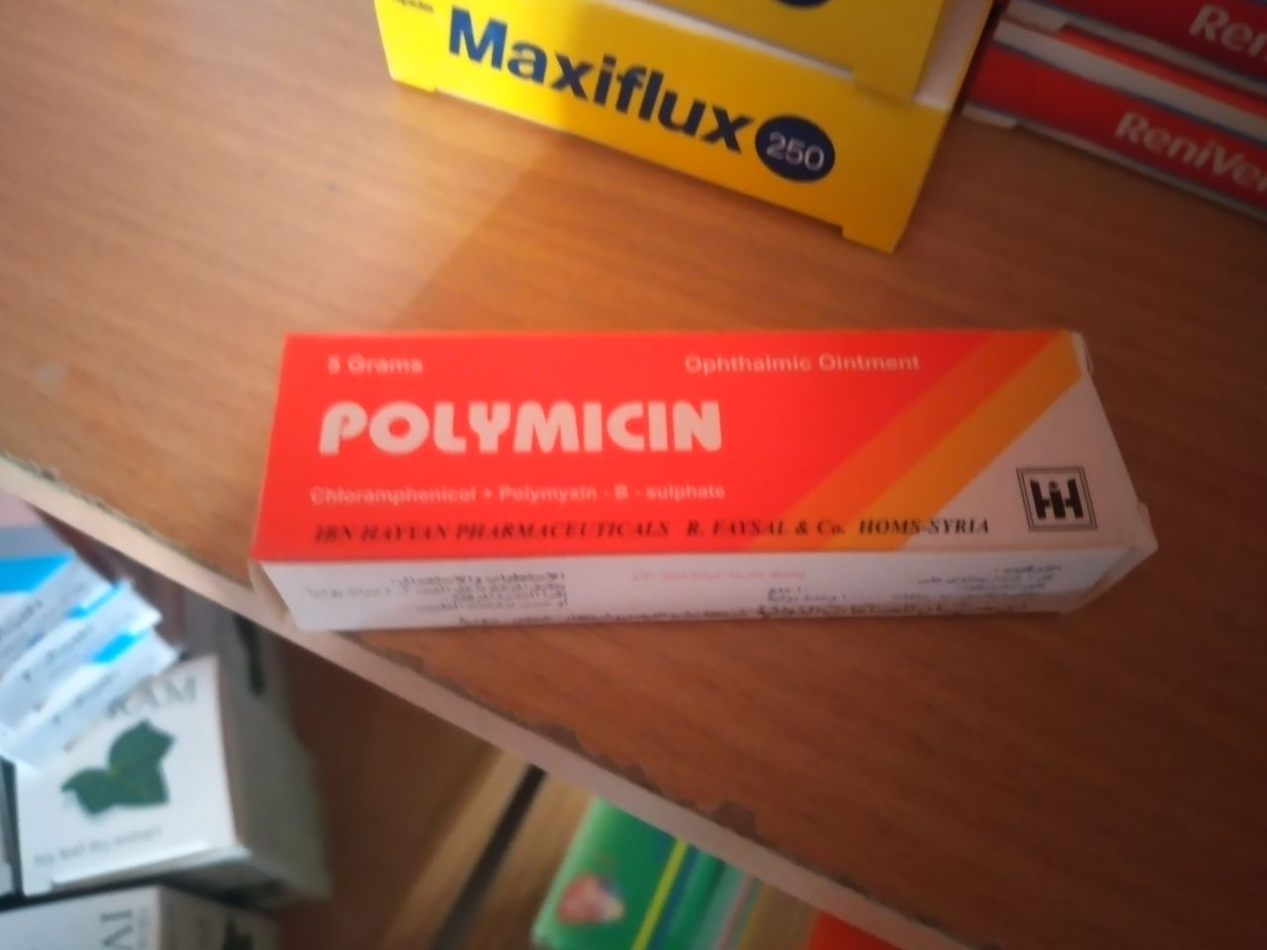Medicine: (245, 299, 1180, 643)
